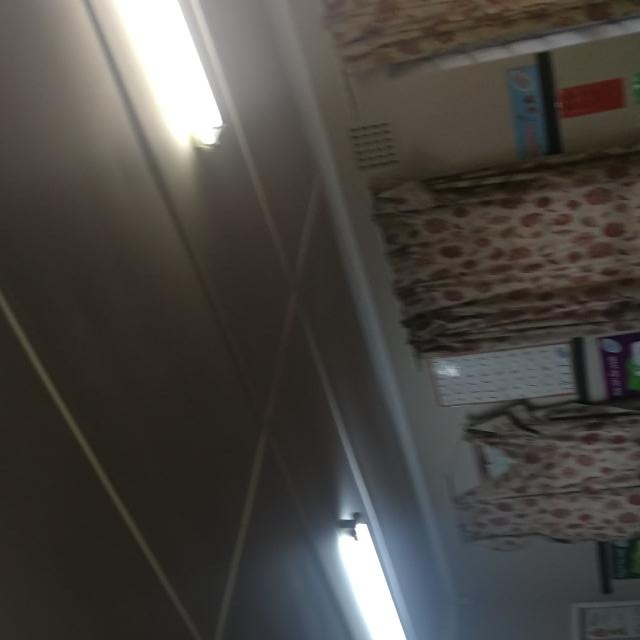fluorescent tube: (295, 485, 457, 640), (140, 0, 248, 229)
